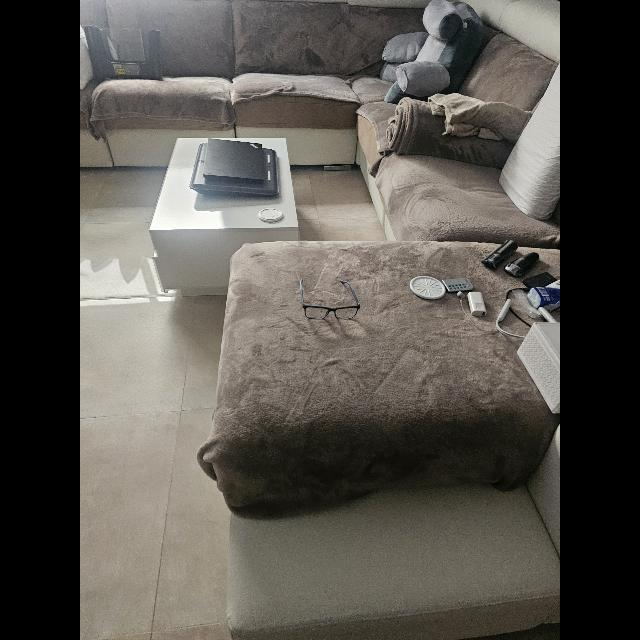glasses: (300, 278, 360, 320)
